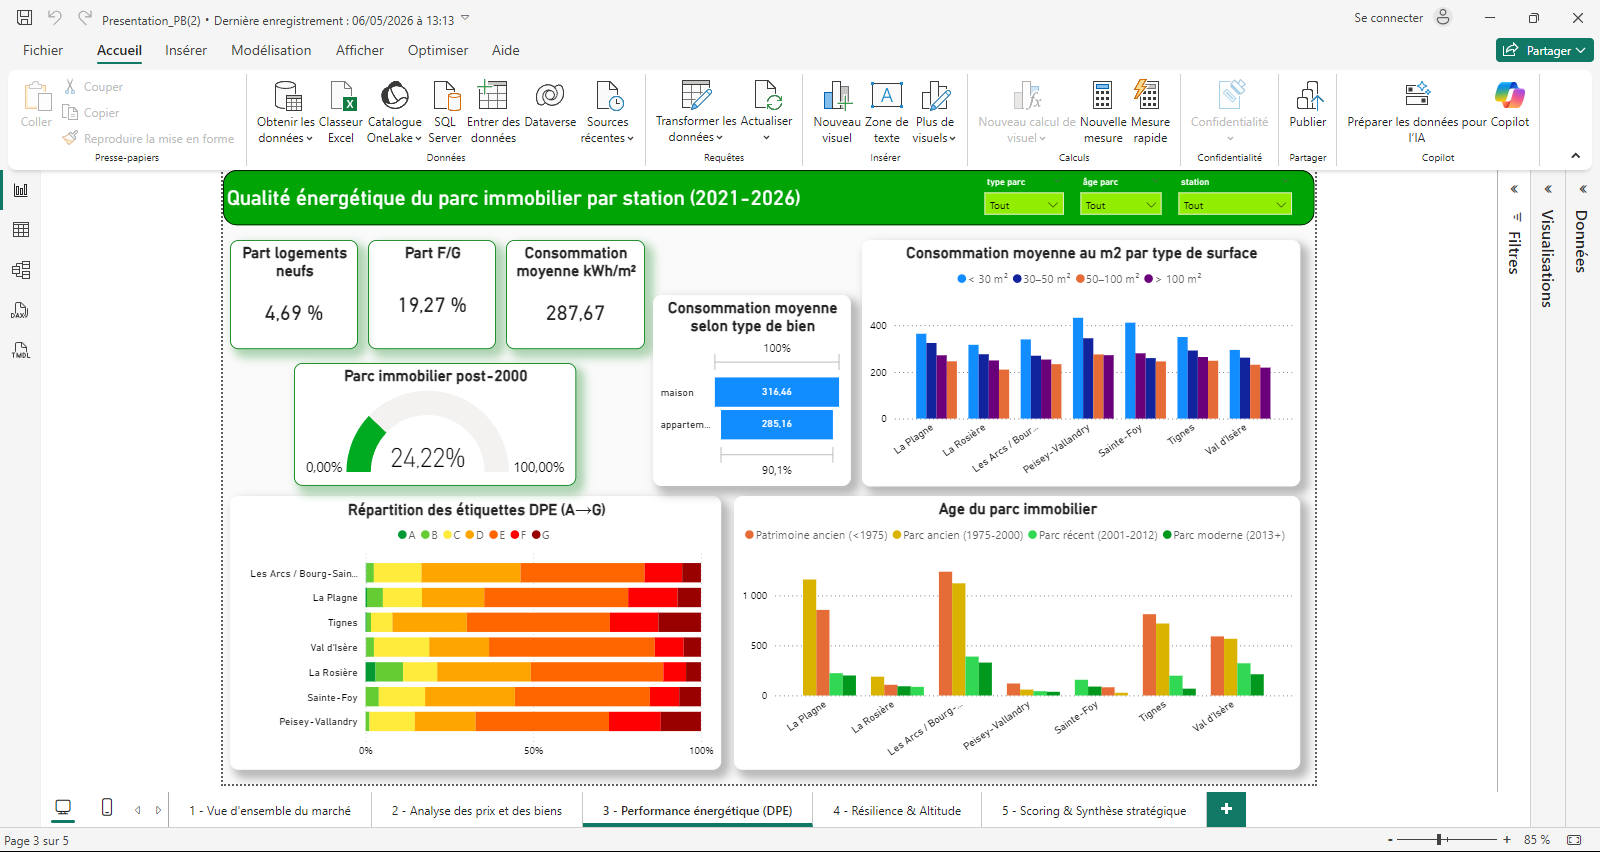

Layout of this report page (visuals, bound fields, positions):
{"tool":"powerbi","page":{"name":"3 - Performance énergétique (DPE)","canvas":[1280,720],"ordinal":2},"visuals":[{"type":"shape","box":[0,0,1280,65],"z":0},{"type":"hundredPercentStackedBarChart","title":"Répartition des étiquettes DPE (A→G)","fields":{"Category":["Stations.station"],"Series":["dpe_clean.etiquette_dpe"],"Y":["CountNonNull(dpe_clean.etiquette_dpe)"]},"box":[8.8,382.5,576.2,321.2],"z":1000},{"type":"cardVisual","title":"Part F/G","fields":{"Data":["dpe_clean.Part FG"]},"box":[170.3,82.5,150,127.5],"z":2000},{"type":"cardVisual","title":"Consommation moyenne kWh/m²","fields":{"Data":["Mesures.Conso moyenne"]},"box":[331.9,82.5,162.5,127.5],"z":3000},{"type":"cardVisual","title":"Part logements neufs","fields":{"Data":["Mesures.% parc neufs"]},"box":[8.8,82.5,150,127.5],"z":4000},{"type":"slicer","title":"Station","fields":{"Values":["Stations.station"]},"box":[1110,2.5,152.5,56.2],"z":5000},{"type":"funnel","title":"Consommation moyenne selon type de bien","fields":{"Category":["dpe_clean.type_batiment"],"Y":["Mesures.Conso moyenne"]},"box":[504.2,146.6,232.2,224],"z":6000},{"type":"slicer","title":"Station","fields":{"Values":["dpe_clean.type_parc"]},"box":[883,2.3,112.6,56.3],"z":7000},{"type":"slicer","title":"Station","fields":{"Values":["dpe_clean.Tranche_construction"]},"box":[995,2.5,115,56.2],"z":8000},{"type":"gauge","title":"Parc immobilier post-2000","fields":{"Y":["Mesures.% Après 2000"]},"box":[83.3,226.3,330.7,144.2],"z":9000},{"type":"clusteredColumnChart","title":"Consommation moyenne au m2 par type de surface","fields":{"Category":["Stations.station"],"Series":["dpe_clean.Tranche_surface_DPE"],"Y":["Mesures.Conso moyenne"]},"box":[748.8,82.5,513.8,288.8],"z":10000},{"type":"clusteredColumnChart","title":"Age du parc immobilier","fields":{"Category":["Stations.station"],"Y":["CountNonNull(dpe_clean.Tranche_age_parc)"],"Series":["dpe_clean.Tranche_age_parc"]},"box":[598.8,382.5,663.8,321.2],"z":11000}]}

Visuals, with their boxes on the page's 1280x720 design canvas (x1, y1, x2, y2). These are canvas units, not pixel positions in the 1600x852 screenshot, which may show the page scaled, cropped or inside an application window:
shape: [0,0,1280,65]
"Répartition des étiquettes DPE (A→G)" hundredPercentStackedBarChart: [9,382,585,704]
"Part F/G" cardVisual: [170,82,320,210]
"Consommation moyenne kWh/m²" cardVisual: [332,82,494,210]
"Part logements neufs" cardVisual: [9,82,159,210]
"Station" slicer: [1110,2,1262,59]
"Consommation moyenne selon type de bien" funnel: [504,147,736,371]
"Station" slicer: [883,2,996,59]
"Station" slicer: [995,2,1110,59]
"Parc immobilier post-2000" gauge: [83,226,414,370]
"Consommation moyenne au m2 par type de surface" clusteredColumnChart: [749,82,1263,371]
"Age du parc immobilier" clusteredColumnChart: [599,382,1263,704]
